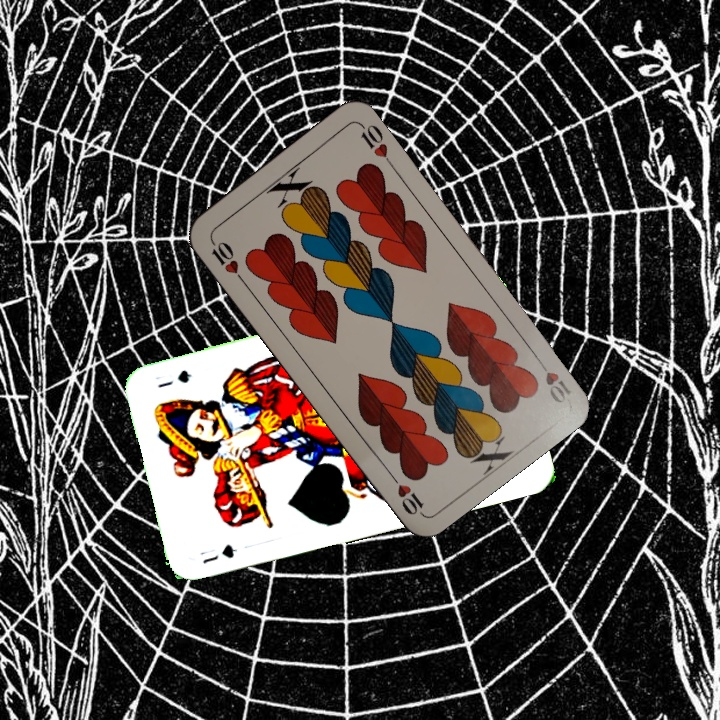GU: (196, 540, 240, 567)
H10: (531, 352, 574, 406), (206, 235, 247, 285)
